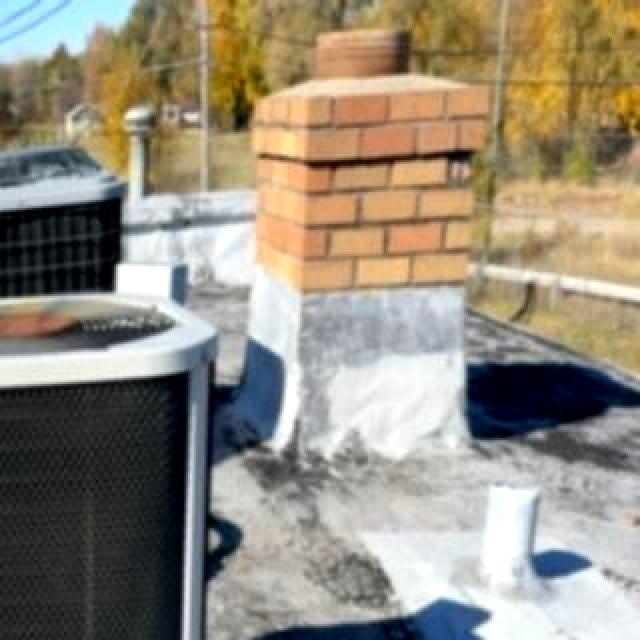SPLIT-SYSTEM: (0, 294, 228, 640), (0, 144, 132, 298)
